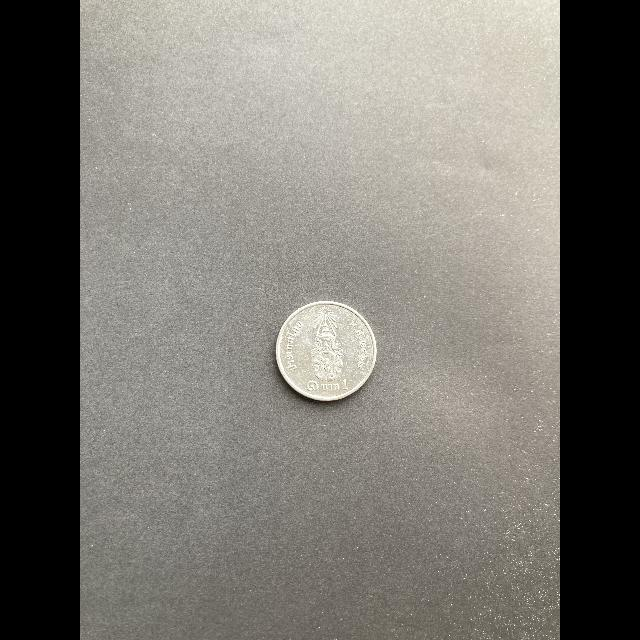1 Bath: (276, 297, 381, 410)
